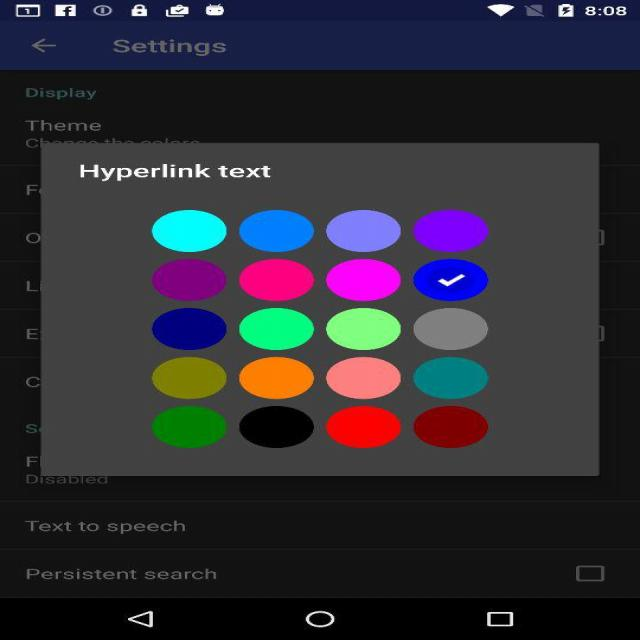button: (435, 414, 480, 446)
icon: (249, 362, 308, 395)
image: (158, 408, 230, 447), (162, 400, 176, 409)
text: (169, 316, 217, 345)
